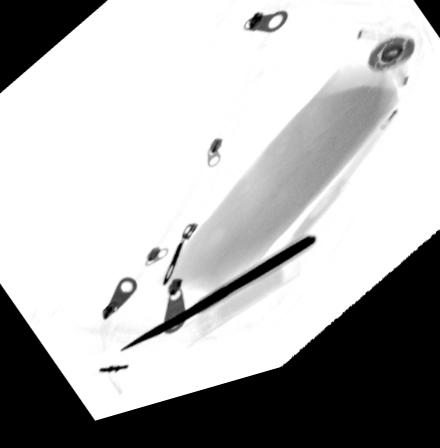Pliers: (119, 251, 319, 358)
